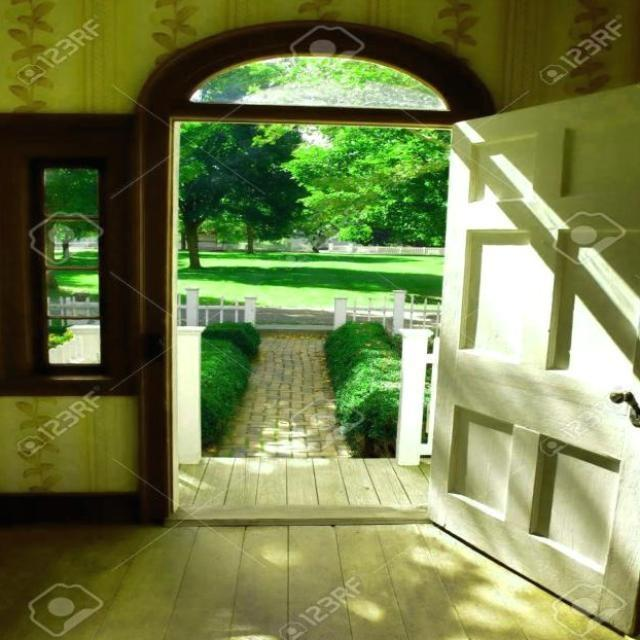door: (426, 76, 639, 637)
